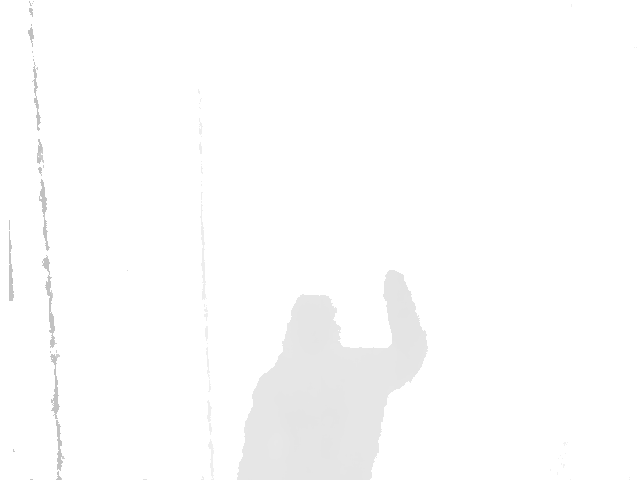hand: (372, 268, 419, 315)
head: (281, 294, 343, 358)
person: (237, 268, 430, 480)
